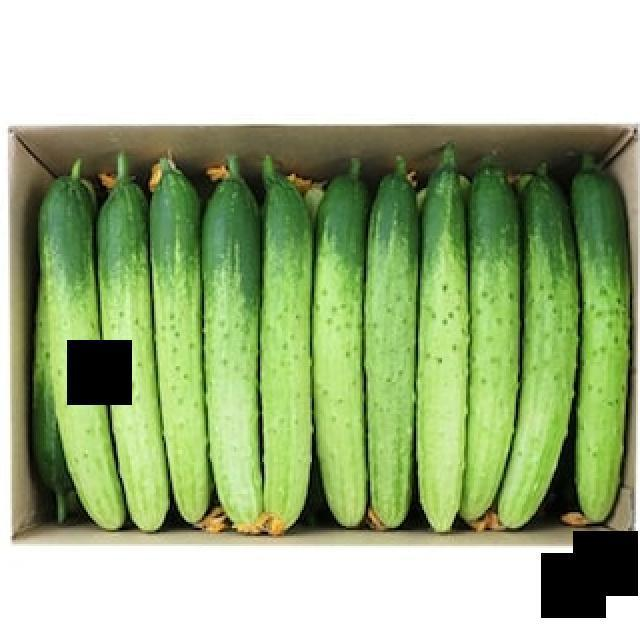cucumber: (20, 140, 640, 534)
